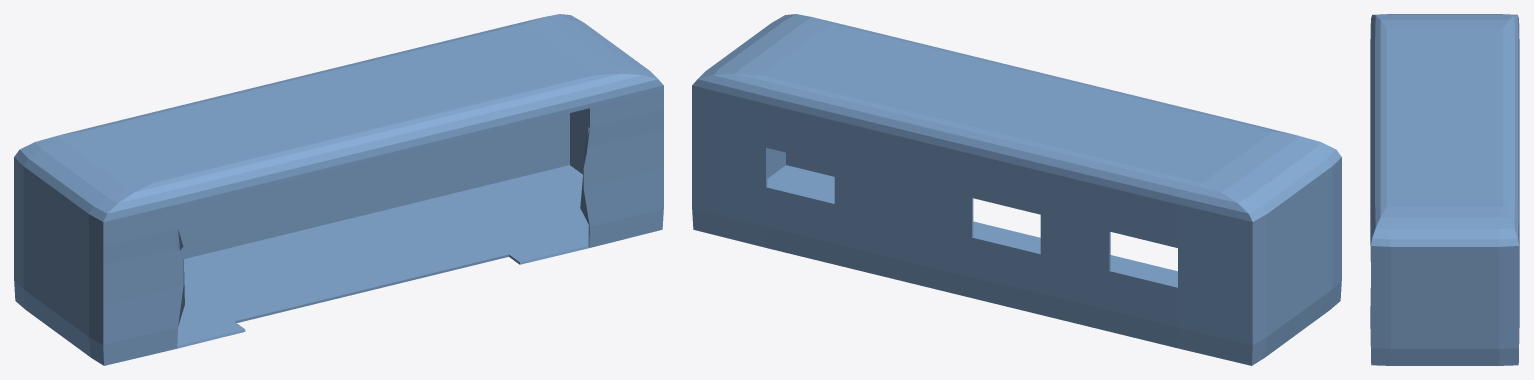
Rendered from wagon.fbx.
3 views of the same model, side by side, from view 1: azimuth 30°, elevation 25°; view 2: azimuth 150°, elevation 25°; view 3: azimuth 270°, elevation 25° (orthographic). The views are drawn at different scales.
Visible parts, largest first — view 1: Cube; view 2: Cube; view 3: Cube.
Part boxes in pixels (<box>): Cube: <box>14,14,663,365</box>; Cube: <box>692,14,1341,365</box>; Cube: <box>1370,14,1519,365</box>.
Size of the model in its own units: 748 by 206 by 206.
